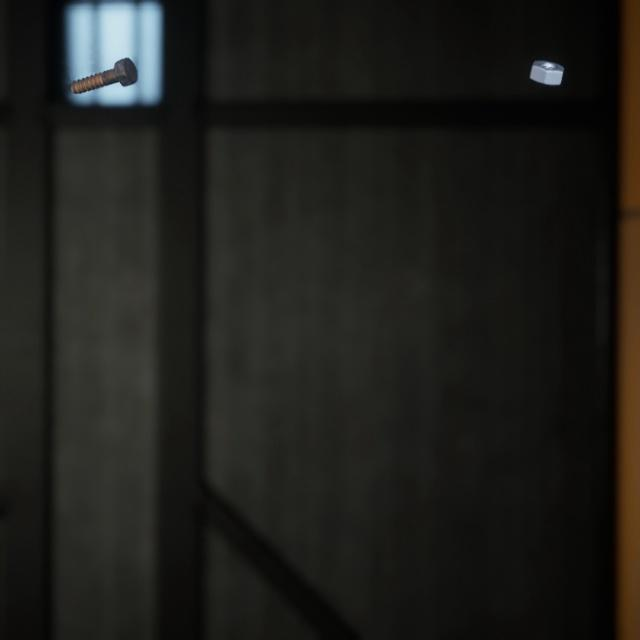bolt: (65, 42, 141, 88)
nut: (525, 45, 568, 79)
